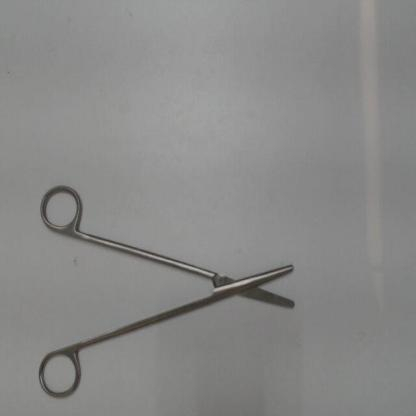9 Metzenbaum Scissors: (34, 180, 297, 403)
